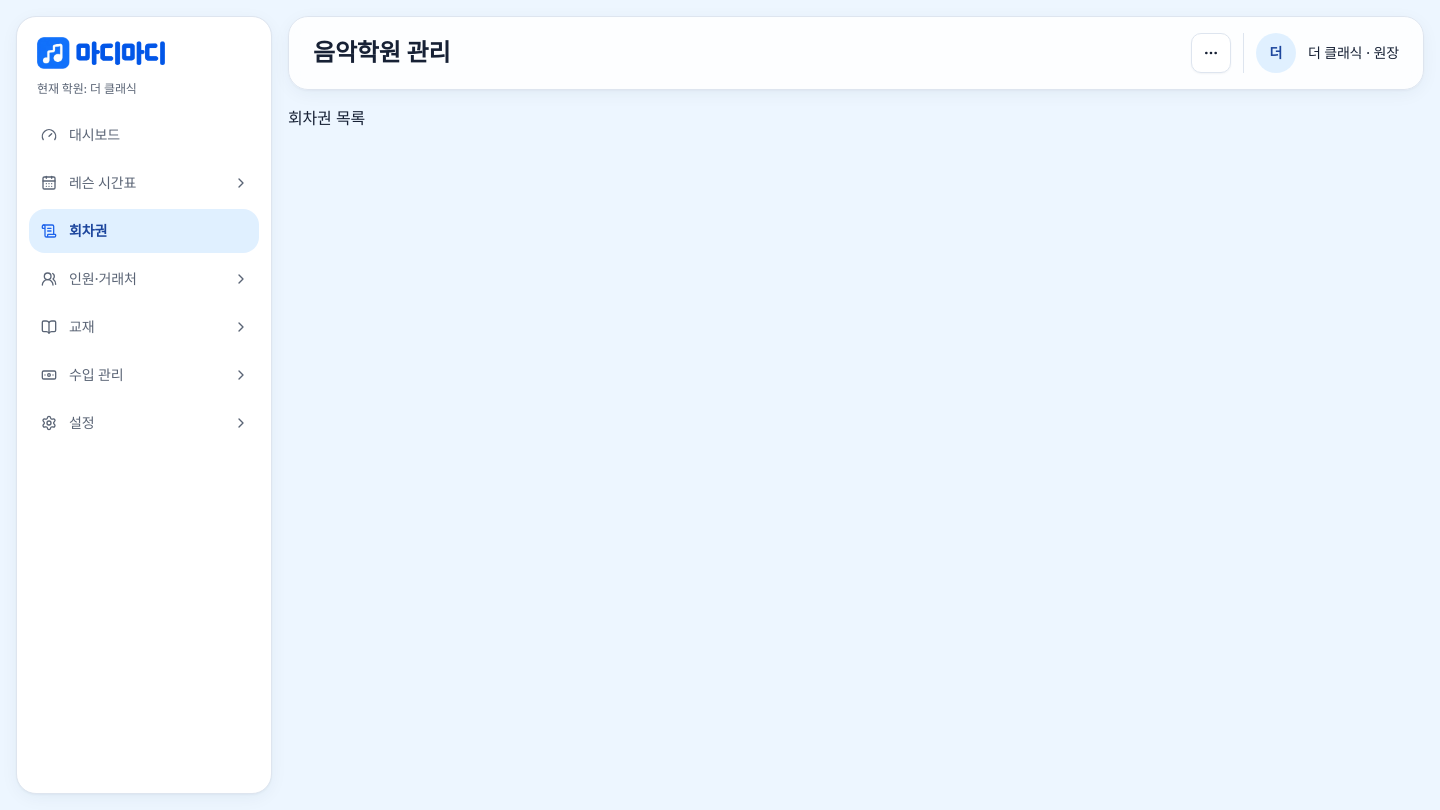
Test: AppShell › md 이하에서는 페이지 액션을 작업 메뉴 안에 표시한다
Click the button named "작업 메뉴 열기" at (1211, 53), box [1191,33,1231,73]
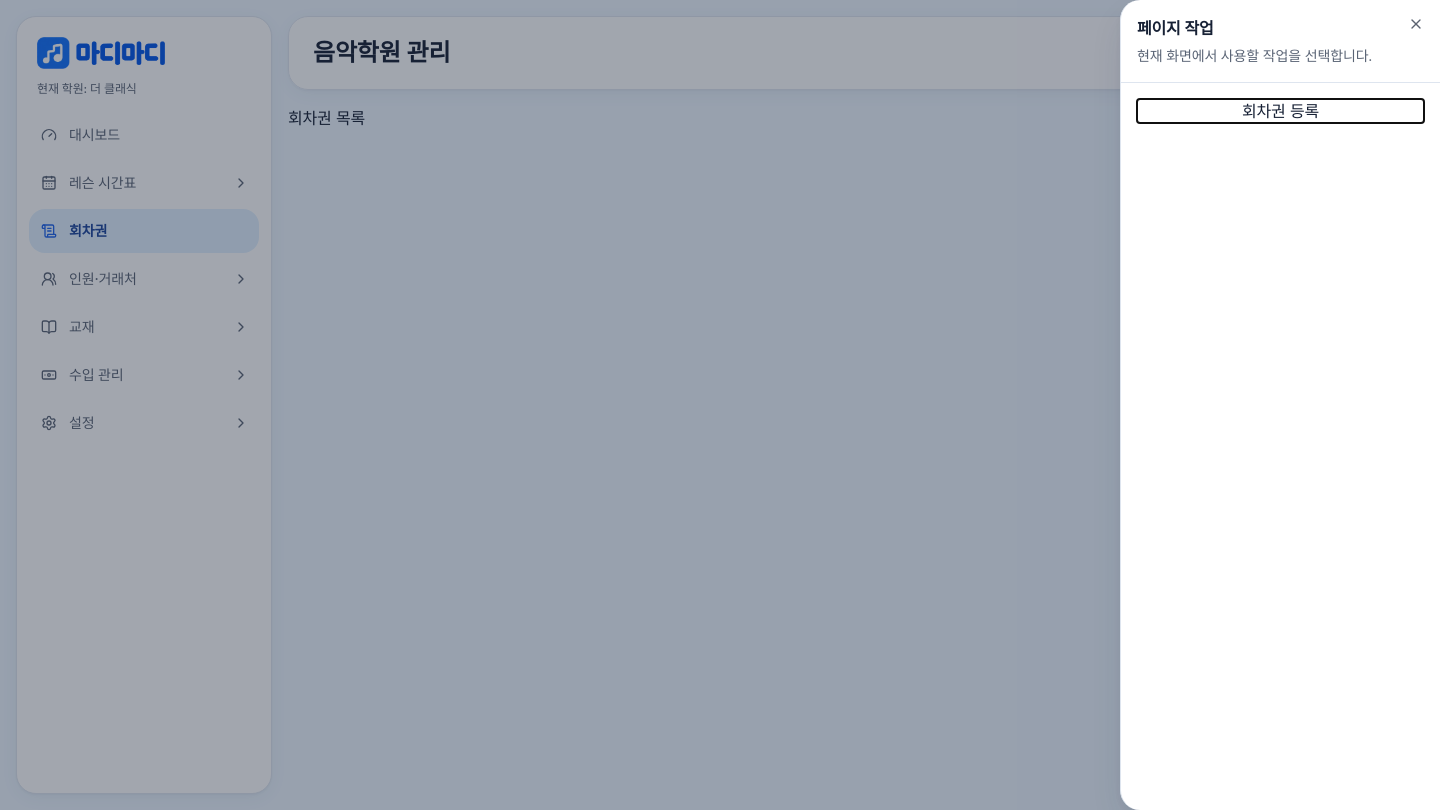
Now the button "회차권 등록" is shown, box [1137,99,1424,123]
